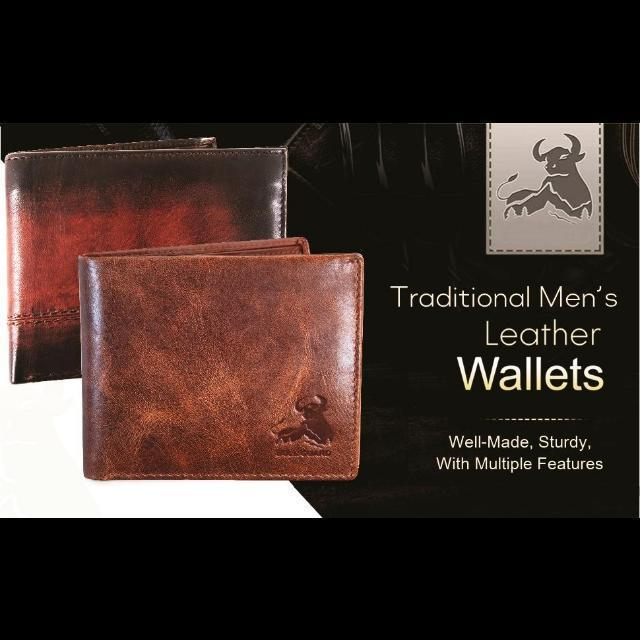wallet: (8, 137, 292, 383), (80, 236, 360, 479)
